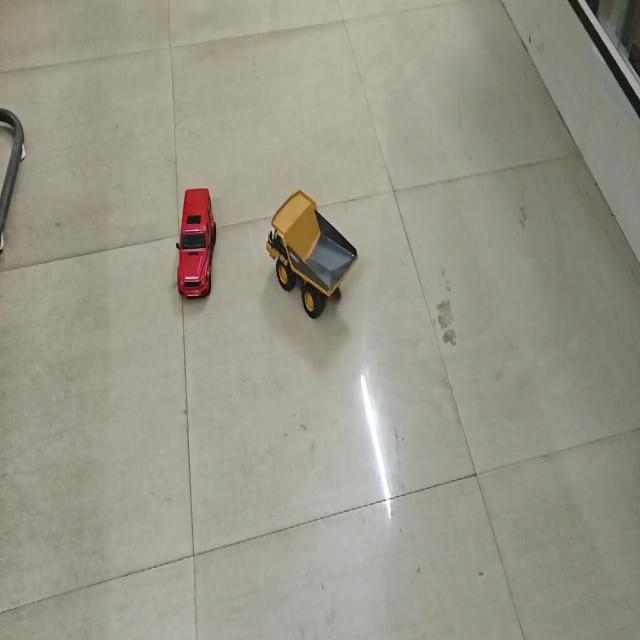dump_truck: (259, 185, 357, 315)
light_vehicle: (174, 181, 216, 302)
